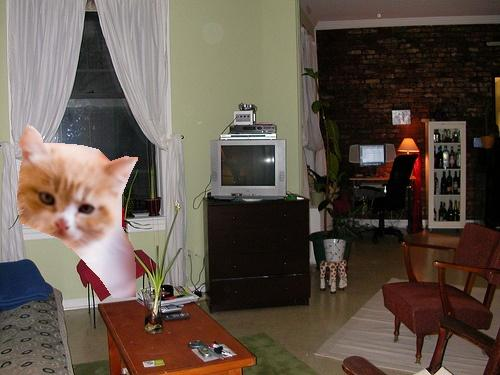tampered: (18, 125, 138, 298)
